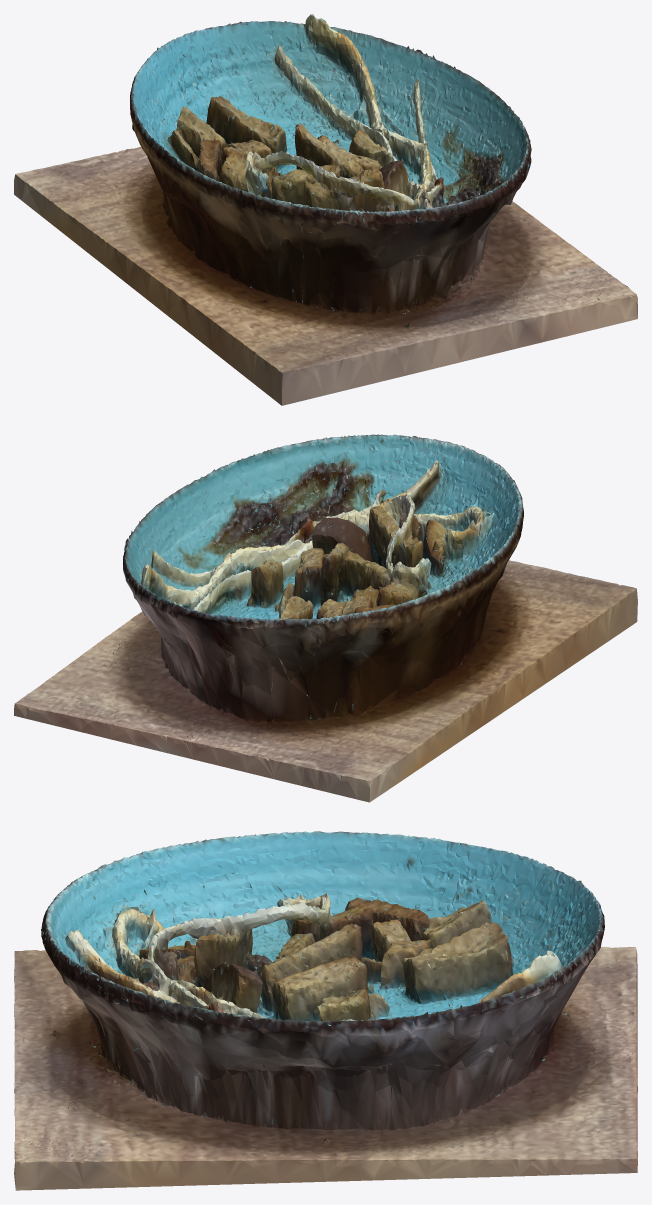
File: tst.glb
3 renders of one model, top to bottom at view 1: azimuth 30°, elevation 25°; view 2: azimuth 150°, elevation 25°; view 3: azimuth 270°, elevation 25°, orthographic. The views are drawn at different scales.
Parts seen in each view (by area): view 1: Mesh_0_Part_0; view 2: Mesh_0_Part_0; view 3: Mesh_0_Part_0.
Boxes of the visible parts, x1,y1,x2,y2 form: Mesh_0_Part_0: (14, 14, 637, 405); Mesh_0_Part_0: (14, 434, 637, 802); Mesh_0_Part_0: (14, 831, 637, 1190).
Bounding box in the file's own units: 0.33 × 0.1415 × 0.4299.
Materials: 1 (1 with a texture image).
